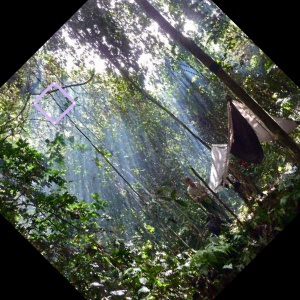square: (31, 80, 77, 126)
